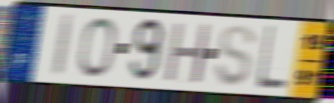9: (126, 16, 167, 85)
H: (162, 20, 214, 86)
I: (50, 13, 77, 79)
L: (254, 23, 288, 92)
O: (77, 15, 118, 80)
S: (212, 23, 258, 89)
